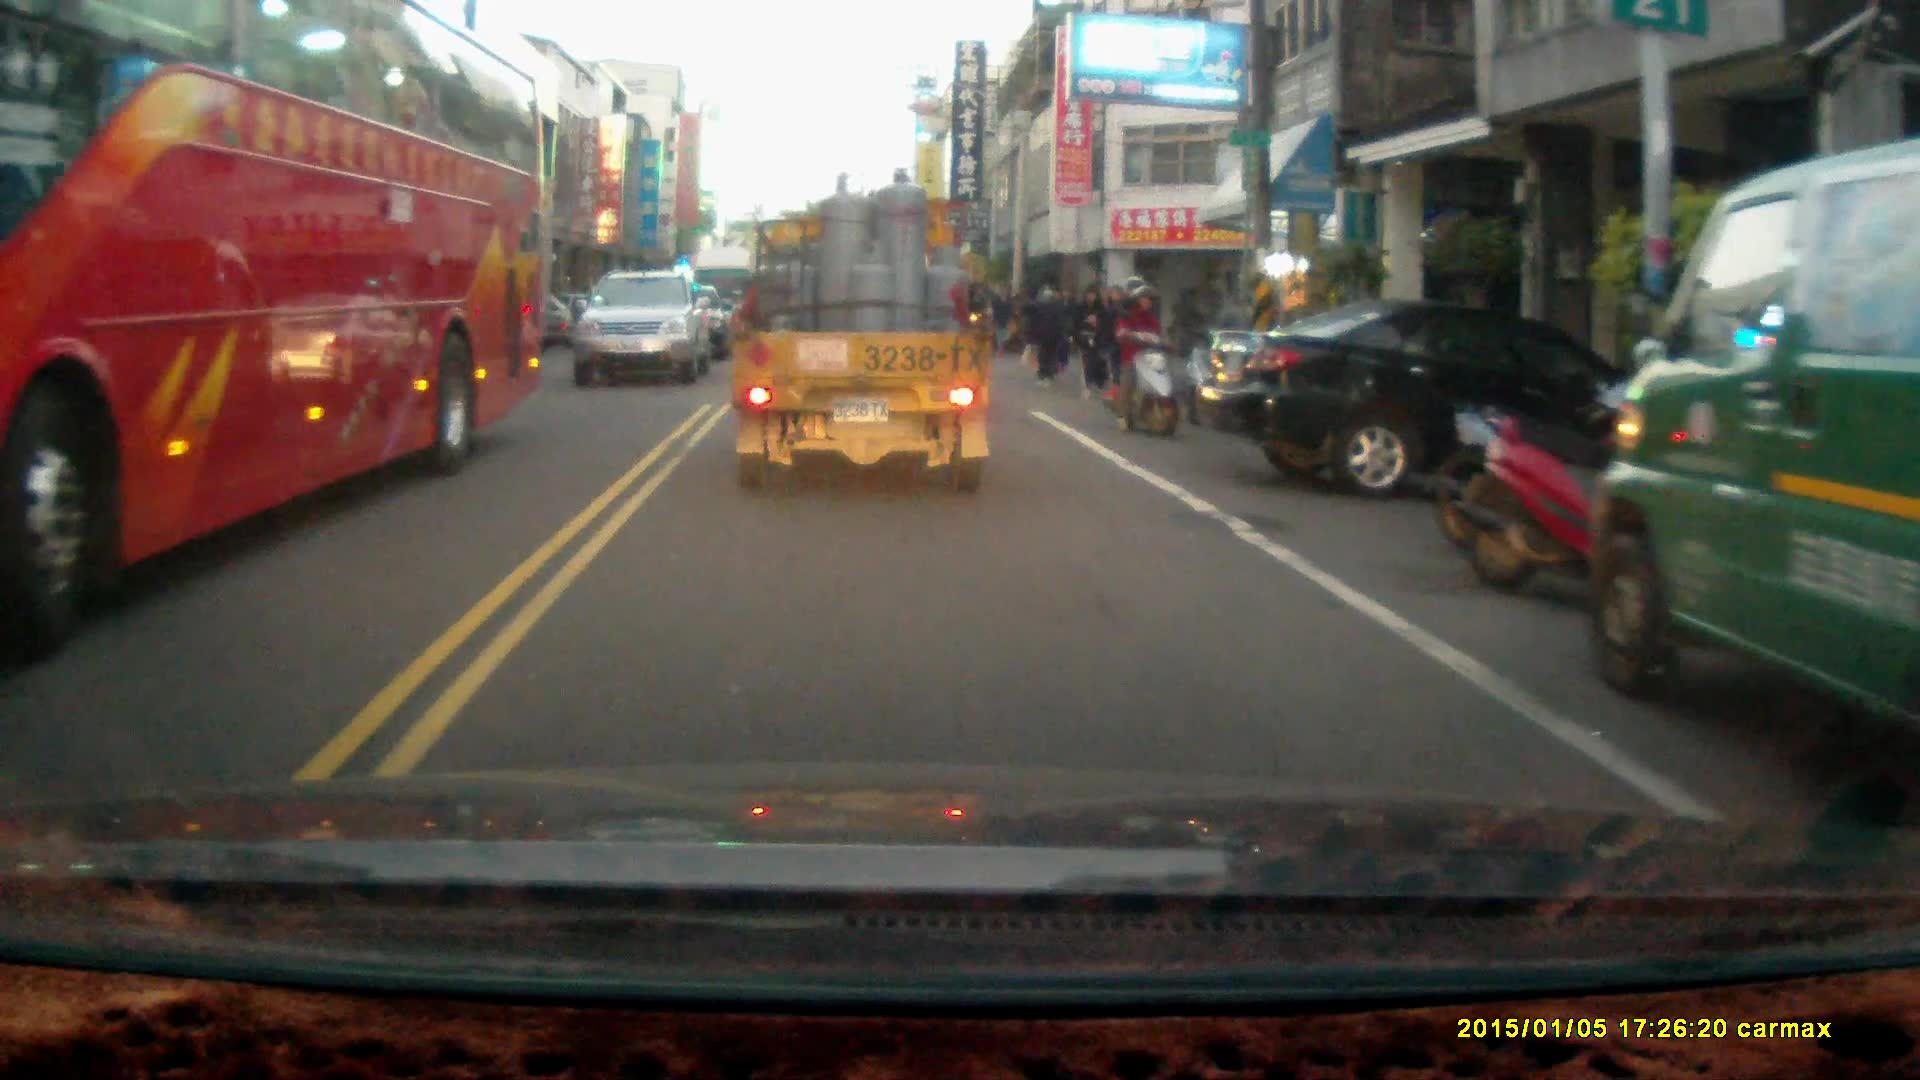pedestrian: (1073, 282, 1113, 400), (1026, 281, 1066, 384), (990, 284, 1015, 356)
rider: (1111, 275, 1179, 439)
vehicle: (1, 7, 553, 642), (1597, 131, 1920, 720), (1186, 302, 1691, 495), (726, 164, 998, 498), (571, 270, 711, 387)
